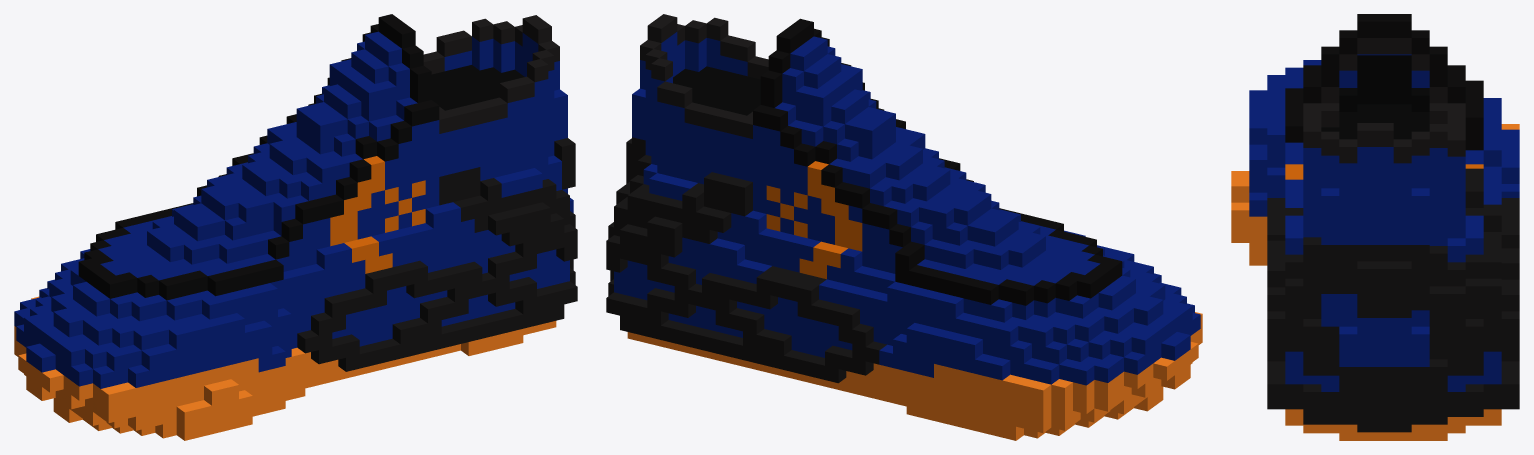
Rendered from Blue Obsidian.fbx.
3 views of the same model, side by side, from view 1: azimuth 30°, elevation 25°; view 2: azimuth 150°, elevation 25°; view 3: azimuth 270°, elevation 25° (orthographic). The views are drawn at different scales.
Visible parts, largest first — view 1: Untitled; view 2: Untitled; view 3: Untitled.
Boxes of the visible parts, left/top/right/bottom form: Untitled: left=14, top=14, right=577, bottom=440; Untitled: left=606, top=14, right=1202, bottom=440; Untitled: left=1231, top=14, right=1519, bottom=440.
Bounding box in the file's own units: 390 × 210 × 160.
